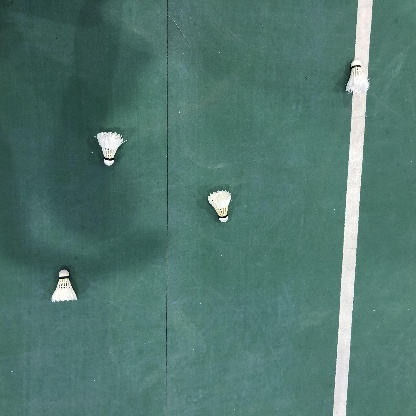ball_single: (51, 269, 77, 302), (97, 132, 123, 165), (346, 60, 369, 94), (207, 190, 231, 222)
